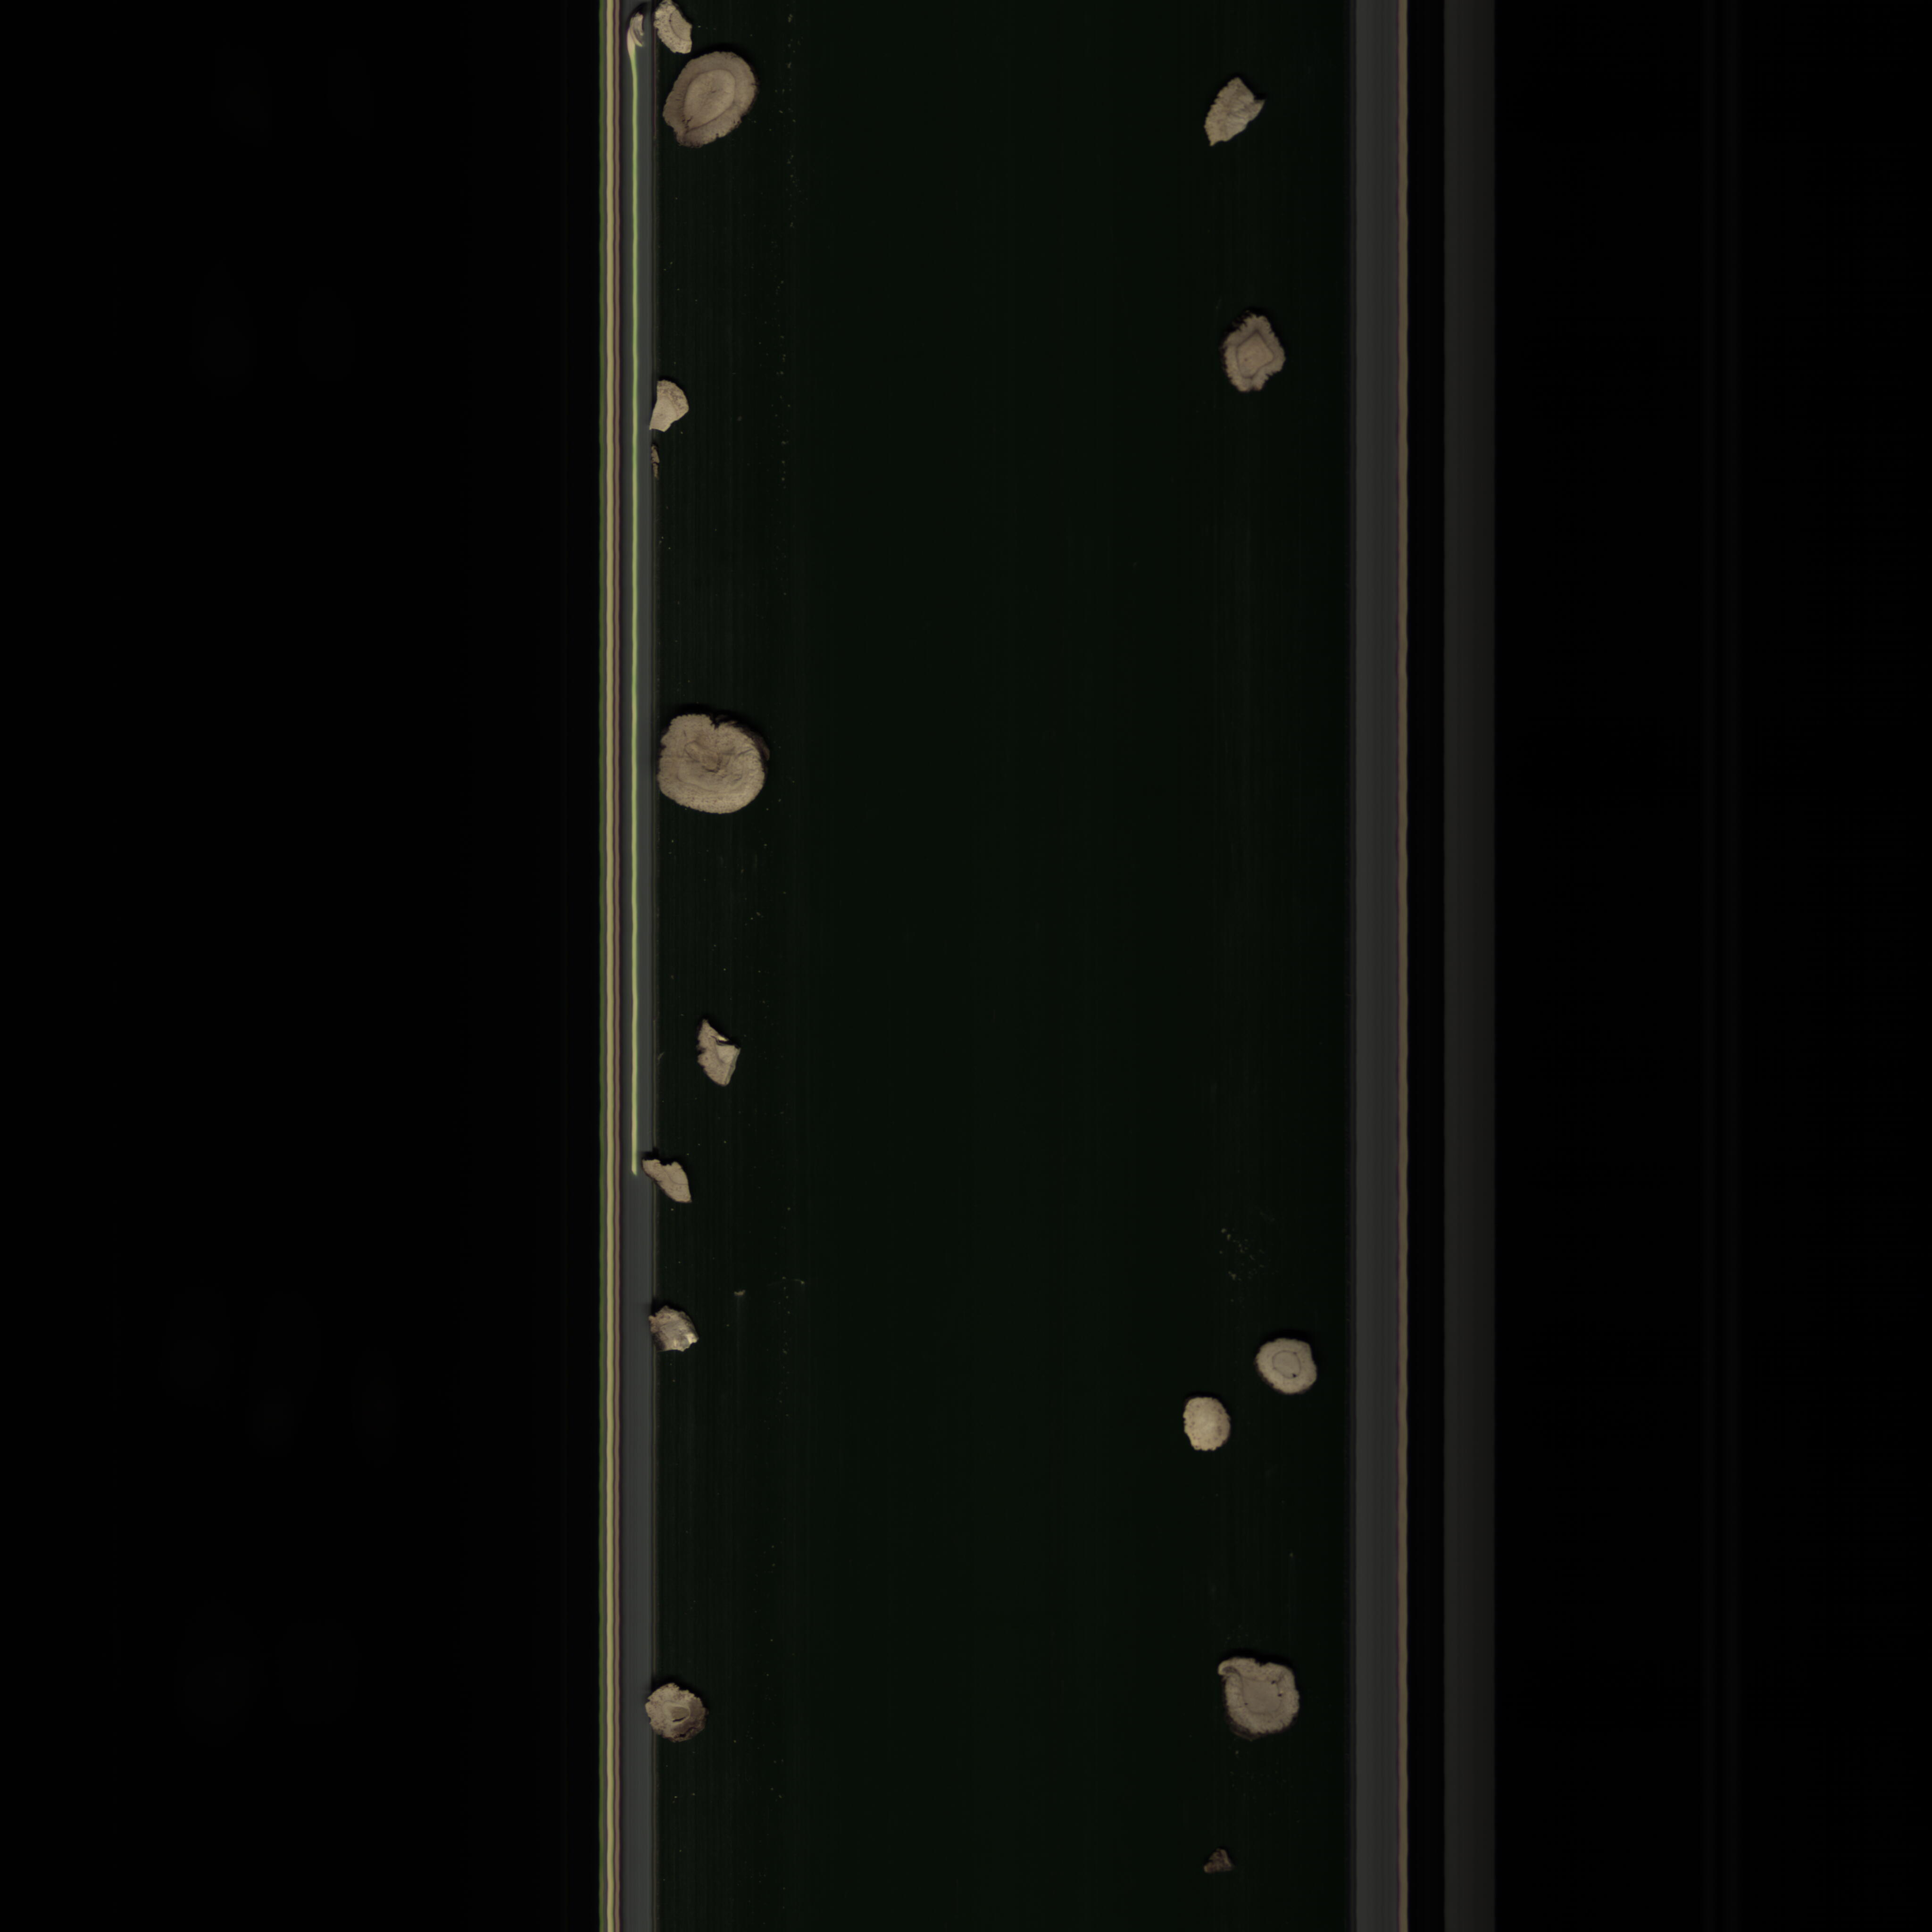debris: (1196, 67, 1276, 154), (690, 1016, 747, 1097), (639, 1292, 709, 1355), (648, 377, 702, 439), (640, 1157, 699, 1212)
distortion: (1212, 1647, 1315, 1746)
moldy: (658, 46, 757, 156), (1214, 313, 1295, 400), (630, 1677, 722, 1750)
